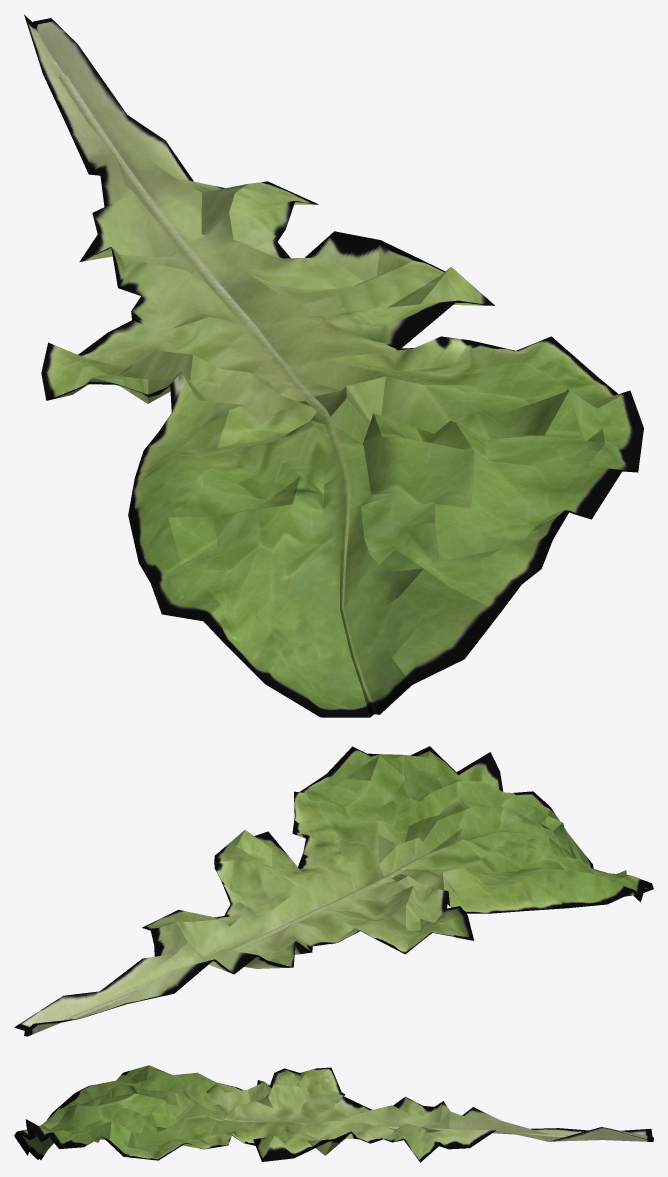
File: Lettuce5.fbx
3 renders of one model, top to bottom at view 1: azimuth 30°, elevation 25°; view 2: azimuth 150°, elevation 25°; view 3: azimuth 270°, elevation 25°, orthographic. The views are drawn at different scales.
Visible parts, largest first — view 1: lettuce2_1_3; view 2: lettuce2_1_3; view 3: lettuce2_1_3.
Boxes of the visible parts, x1=… form: lettuce2_1_3: x1=24, y1=14, x2=643, y2=717; lettuce2_1_3: x1=14, y1=746, x2=653, y2=1036; lettuce2_1_3: x1=14, y1=1065, x2=653, y2=1162.
Bounding box in the file's own units: 5.25 × 2.18 × 12.01.
